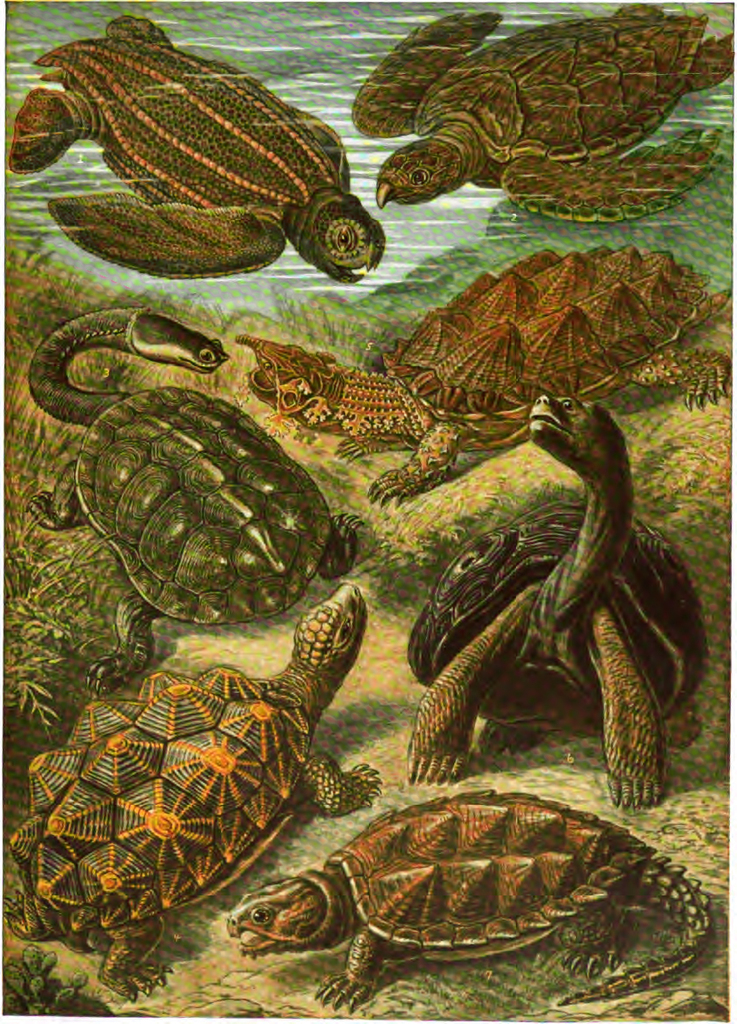Sea turtles: (0, 574, 382, 1005), (231, 237, 736, 511), (399, 390, 710, 818), (25, 306, 364, 692), (215, 788, 719, 1016), (2, 16, 385, 287), (343, 0, 736, 225)
